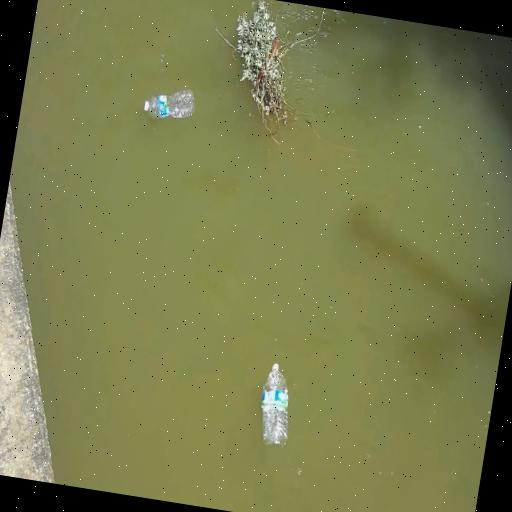plastic: (261, 364, 287, 445), (143, 89, 194, 120)
twig: (197, 0, 337, 152)
